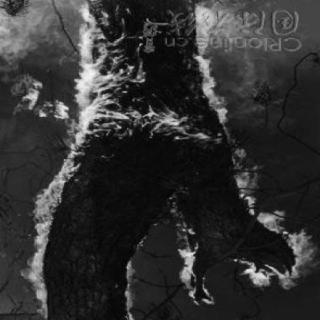Fire: (9, 14, 109, 316), (176, 8, 278, 124), (112, 107, 228, 150), (119, 260, 142, 318)
